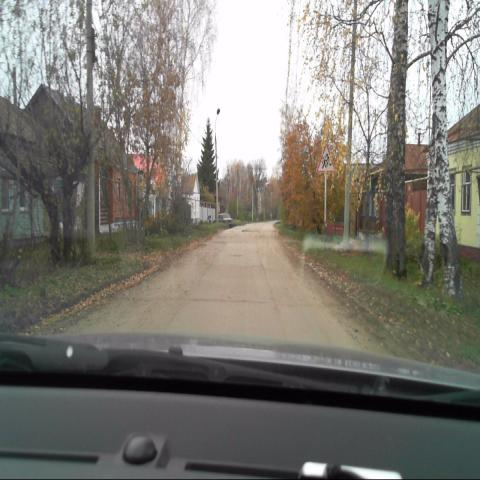1_23: (314, 142, 336, 174)
